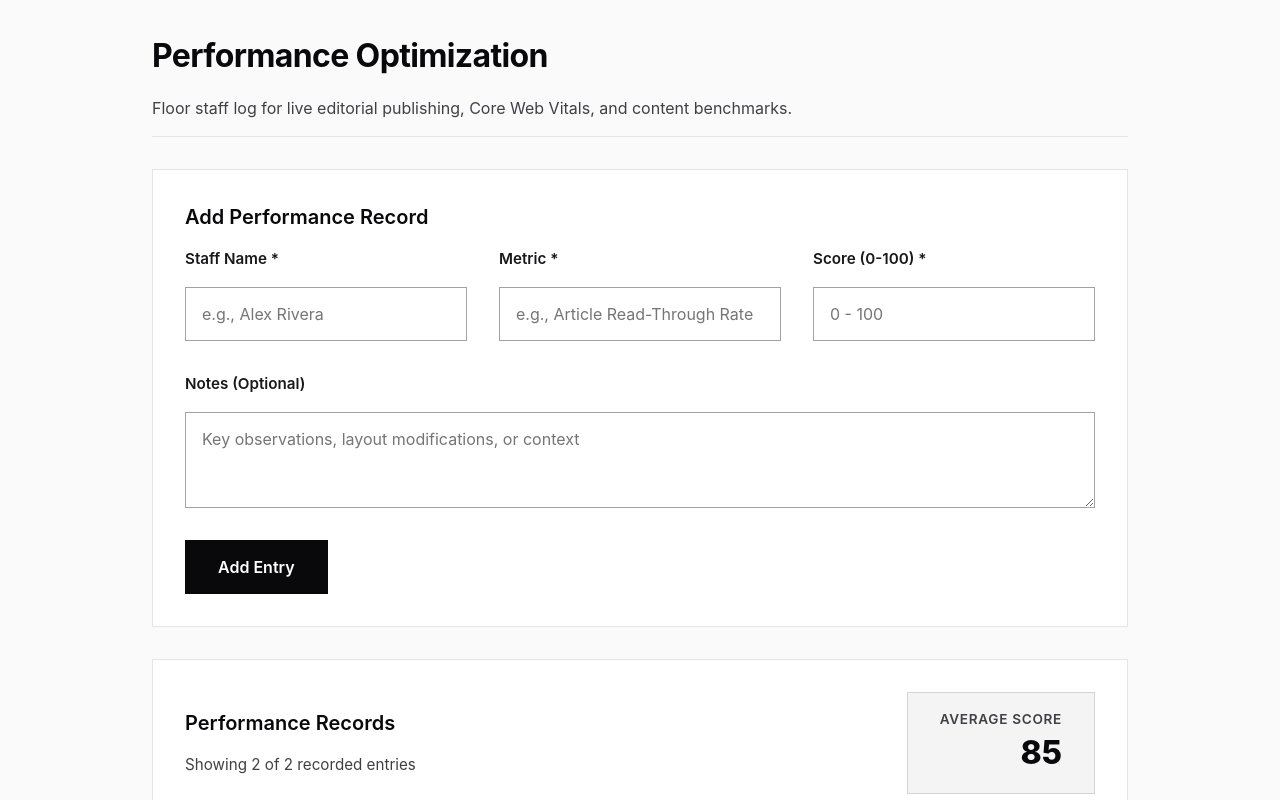
Test: PerformanceOptimization Component › 3. Bad Connectivity › shows an error alert and keeps typed form values if saving fails
Type "Diana Ross" into the field labelled "Staff Name *" at [326, 314], box [185, 287, 467, 341]
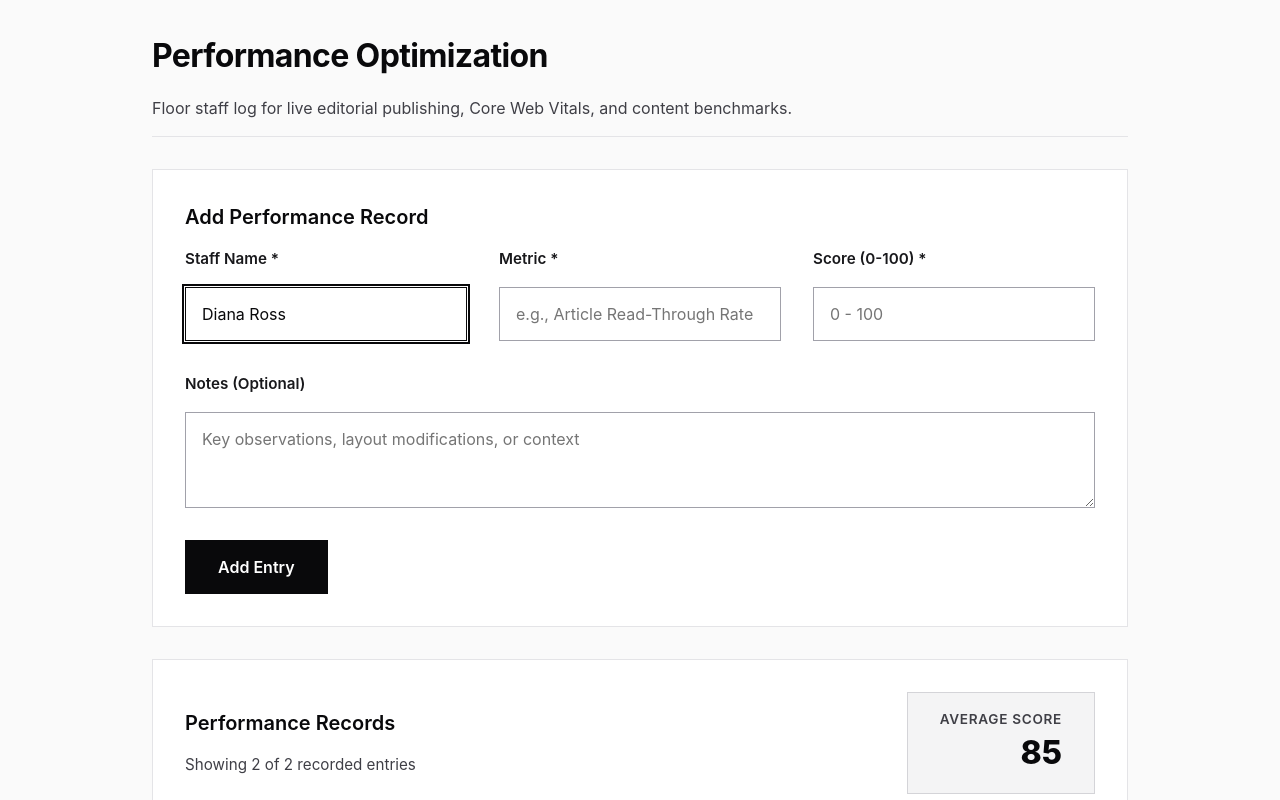
Type "Article Bounce Rate" into the field labelled "Metric *" at [640, 314], box [499, 287, 781, 341]
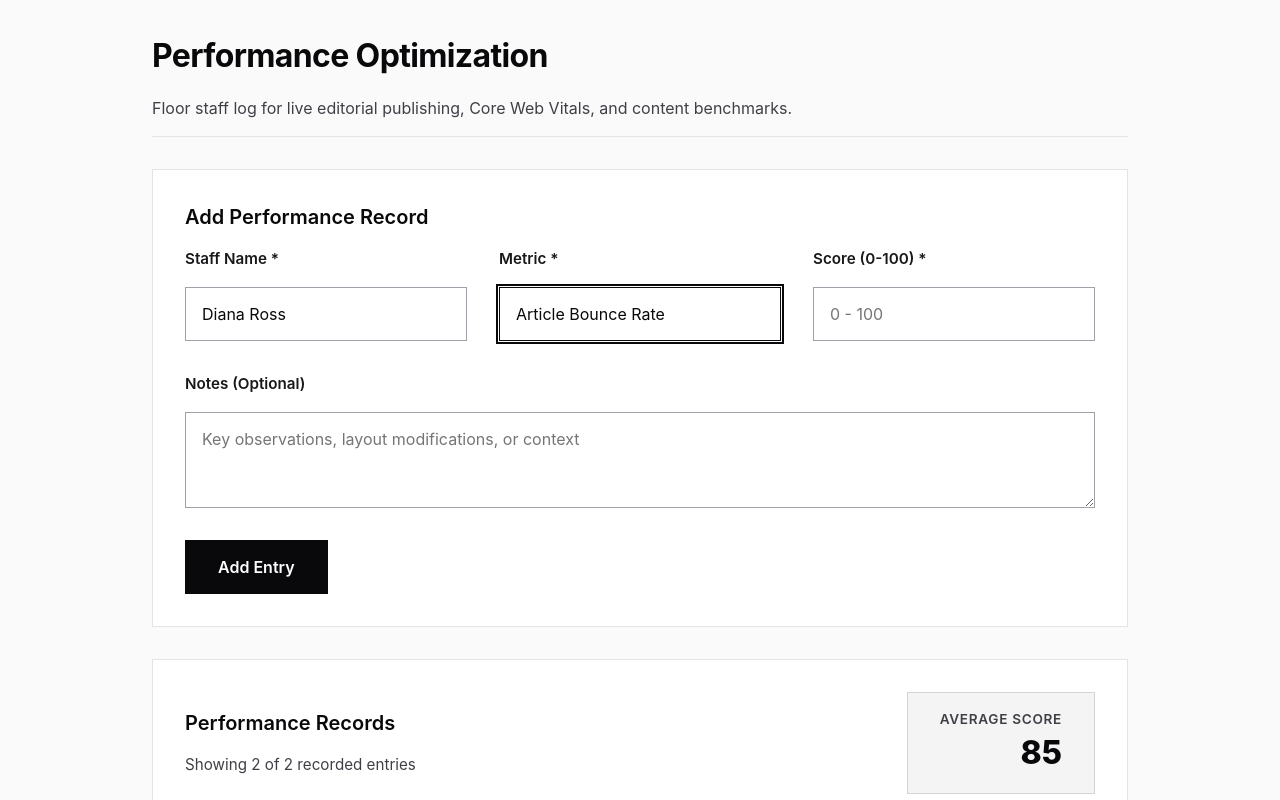
Type "75" into the number field labelled "Score (0-100) *" at [954, 314], box [813, 287, 1095, 341]
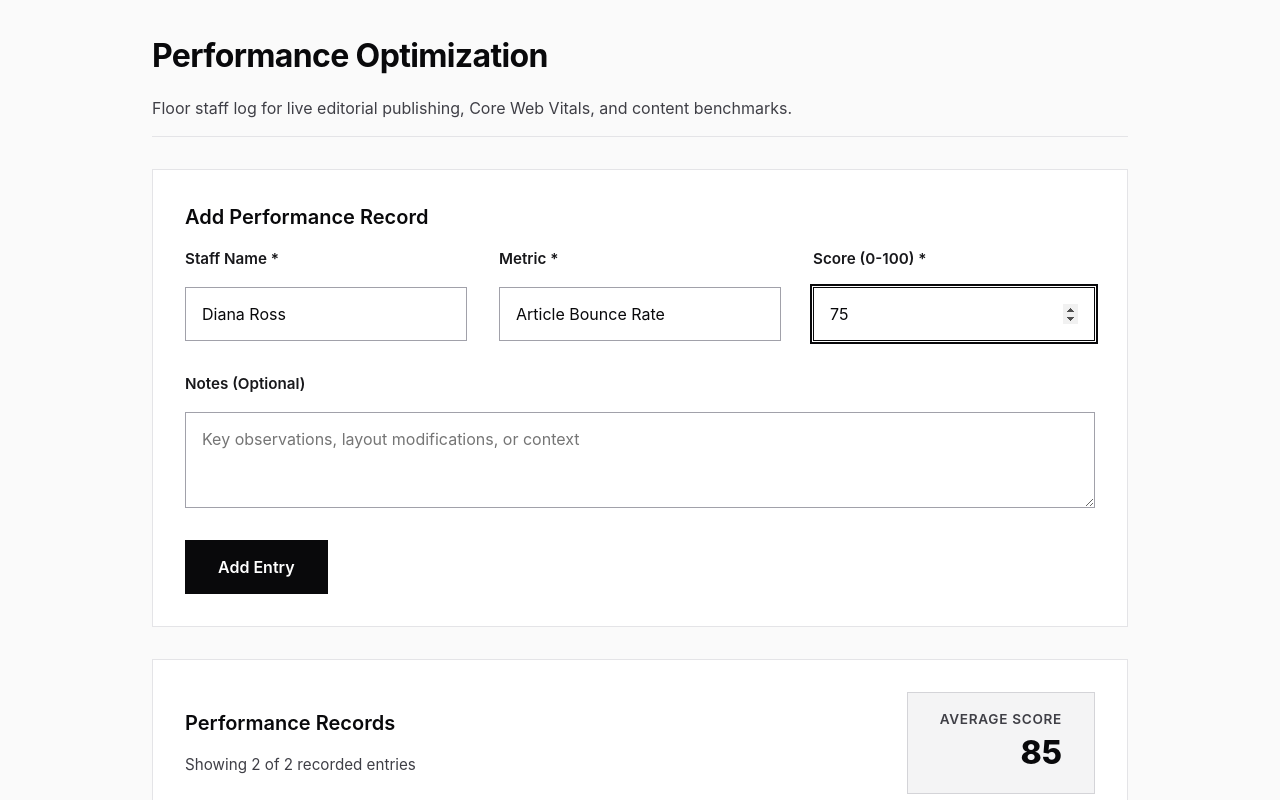
Type "Investigating mobile layout" into the text box labelled "Notes (Optional)" at [640, 460], box [185, 412, 1095, 508]
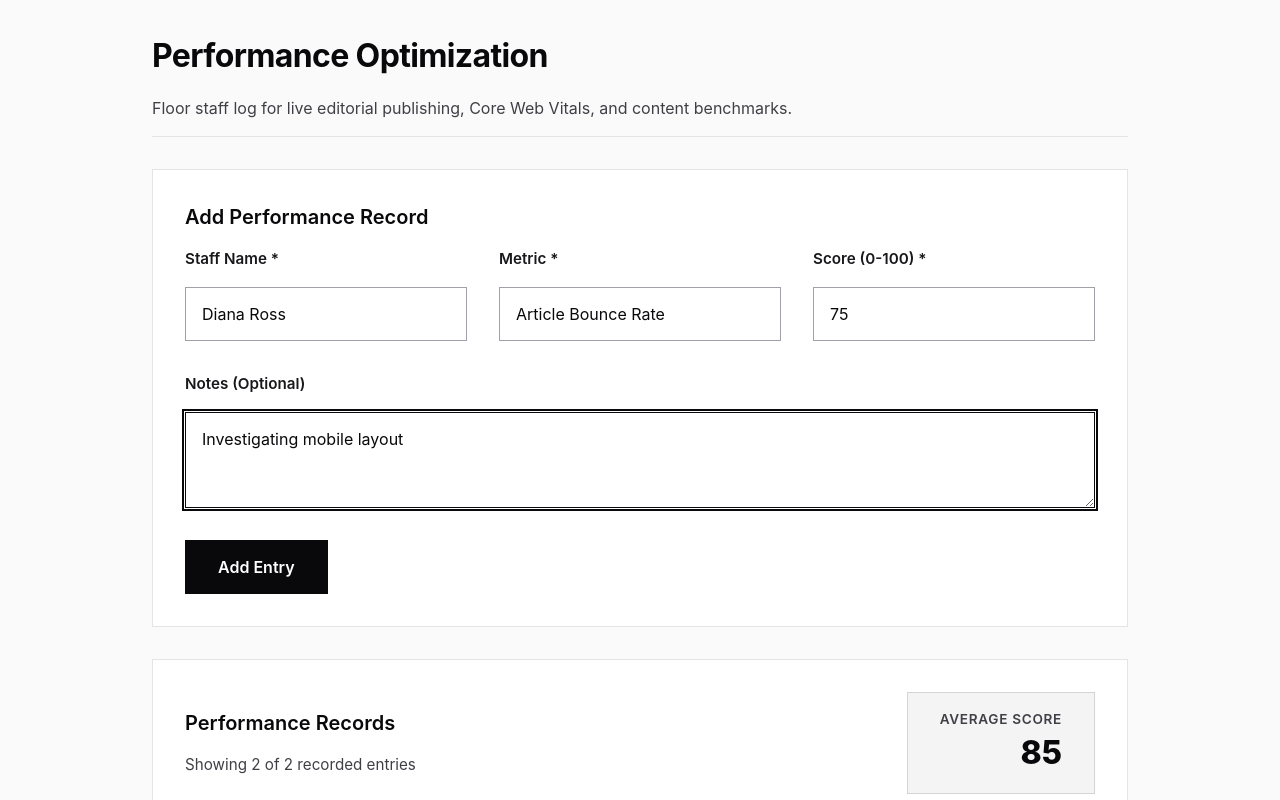
Click the button "Add Entry" at [256, 567], box [185, 540, 328, 594]
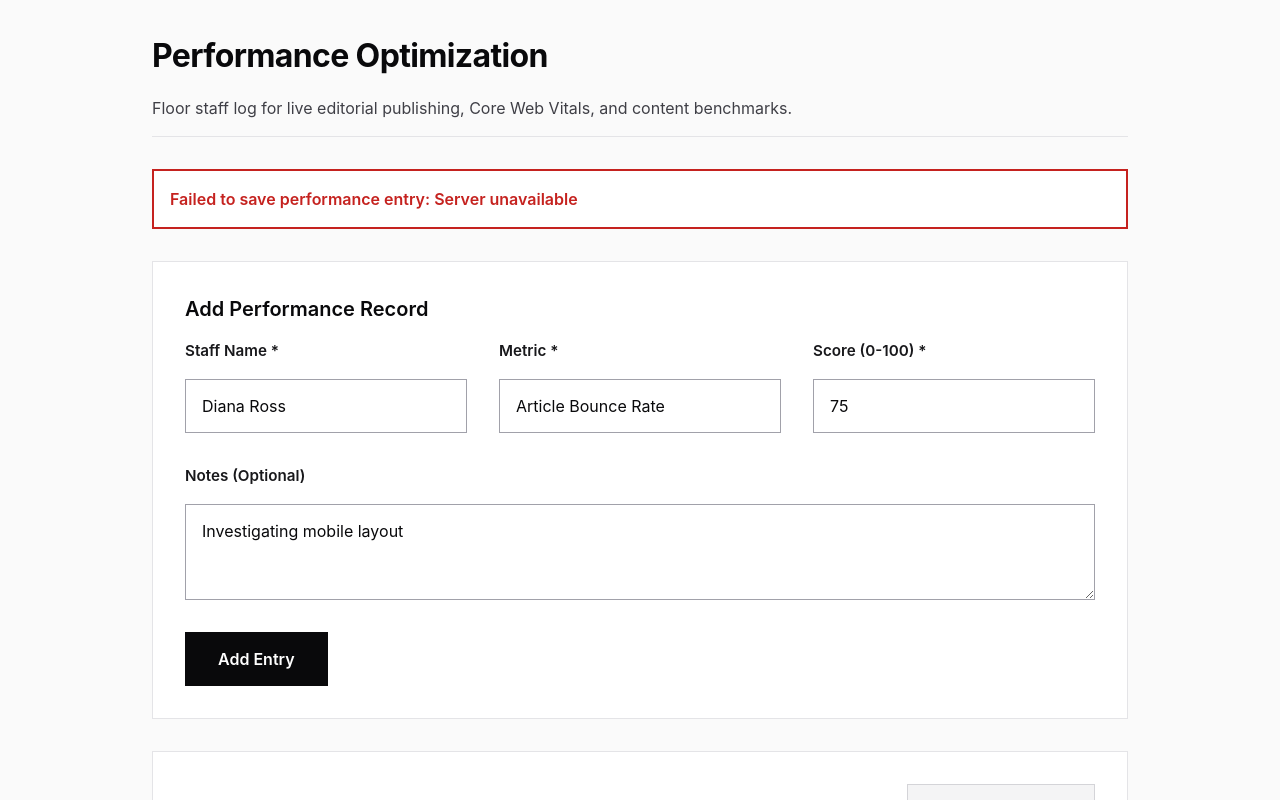
Result: the message "Failed to save performance entry: Server unavailable" is shown at [152, 169, 1128, 229]
Result: the message reads "Failed to save performance entry: Server unavailable" at [170, 189, 434, 209]
